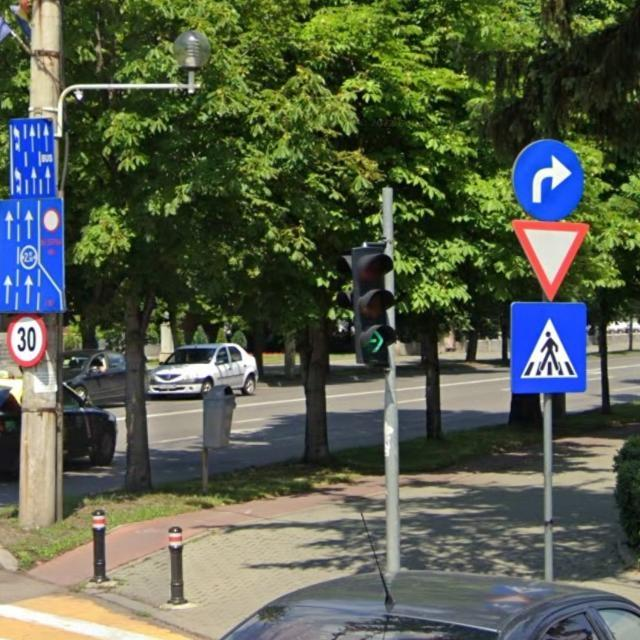forb_speed_over_30: (9, 314, 48, 367)
info_crosswalk: (506, 300, 589, 395)
prio_give_way: (514, 217, 590, 302)
